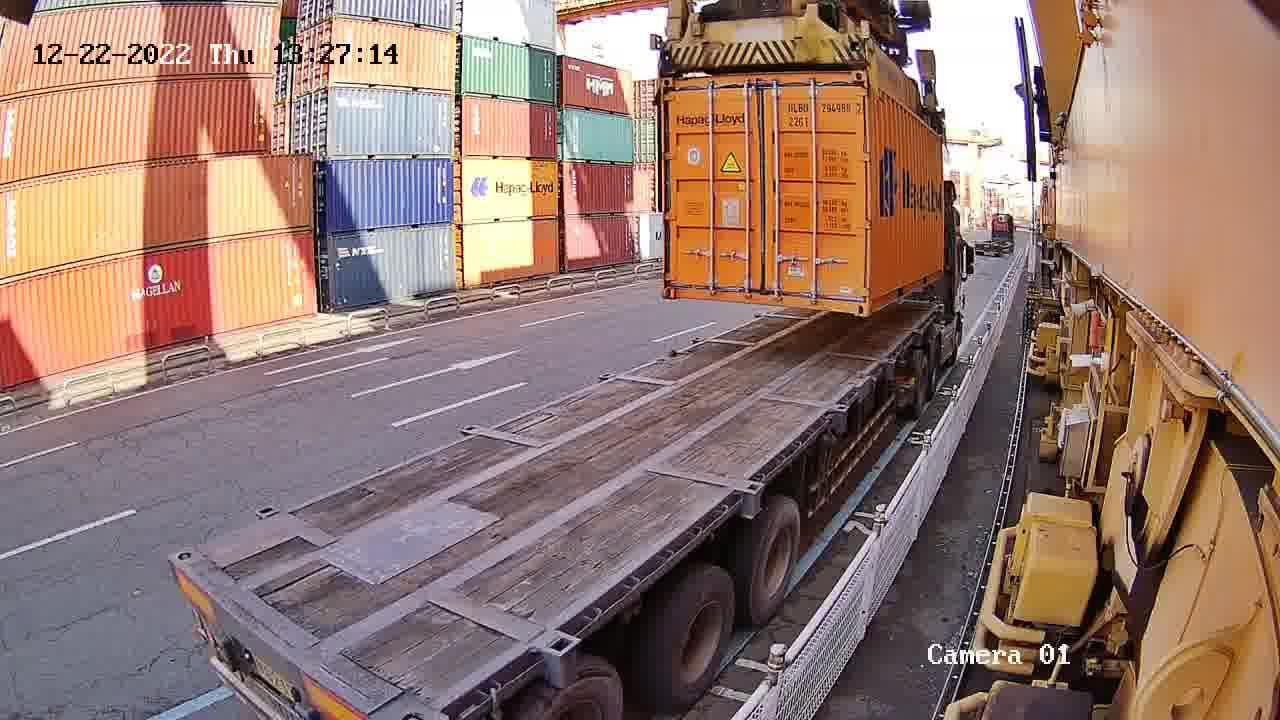Chassis: (663, 350, 868, 384)
Cone: (851, 368, 869, 381), (664, 346, 680, 359)
Hole_L: (663, 272, 688, 300)
Hole_R: (842, 284, 869, 317)
Tire: (927, 340, 943, 391), (916, 357, 930, 408)
